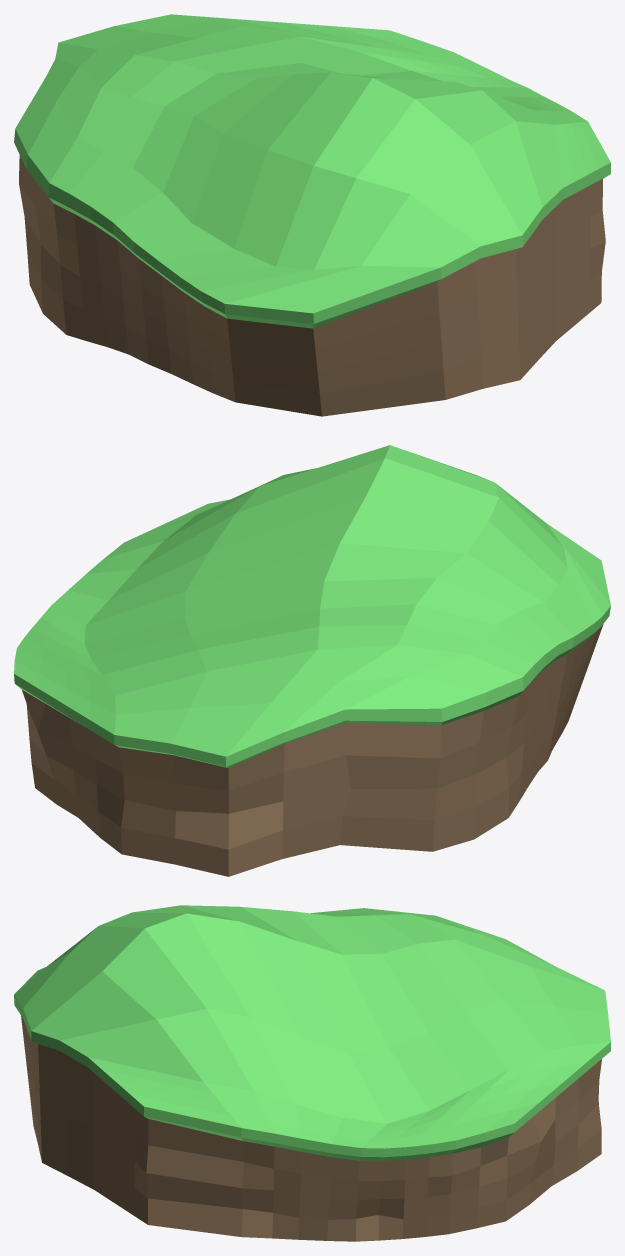
The model's file is platformsrping.fbx.
3 renders of one model, top to bottom at view 1: azimuth 30°, elevation 25°; view 2: azimuth 150°, elevation 25°; view 3: azimuth 270°, elevation 25°, orthographic. The views are drawn at different scales.
Parts seen in each view (by area): view 1: Plane; view 2: Plane; view 3: Plane.
Boxes of the visible parts, box(x1,y1,x2,y2) form: Plane: box(14, 14, 610, 416); Plane: box(14, 445, 610, 876); Plane: box(14, 905, 610, 1241).
Bounding box in the file's own units: 317 × 166 × 385.
